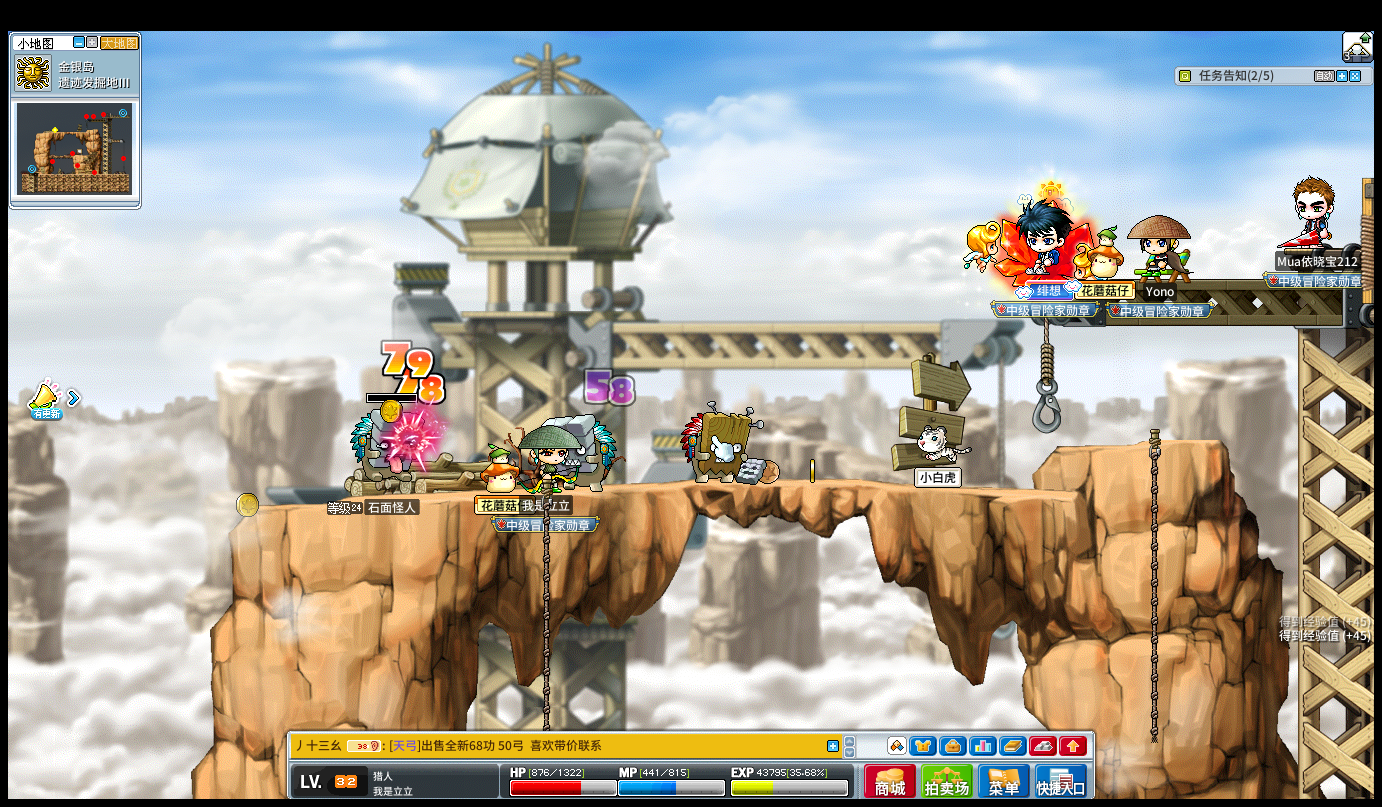floor: (230, 475, 1123, 502), (1056, 434, 1224, 450), (1054, 437, 1227, 452)
monster: (680, 402, 759, 484), (348, 406, 422, 489), (348, 409, 399, 487), (571, 416, 617, 489)
rope: (1145, 424, 1161, 749), (539, 480, 551, 685)
